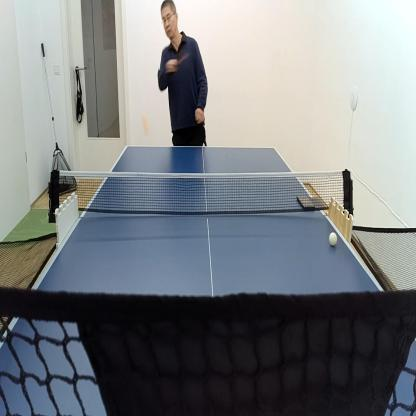Ball: (172, 51, 191, 69), (328, 230, 338, 249), (141, 114, 150, 133)
